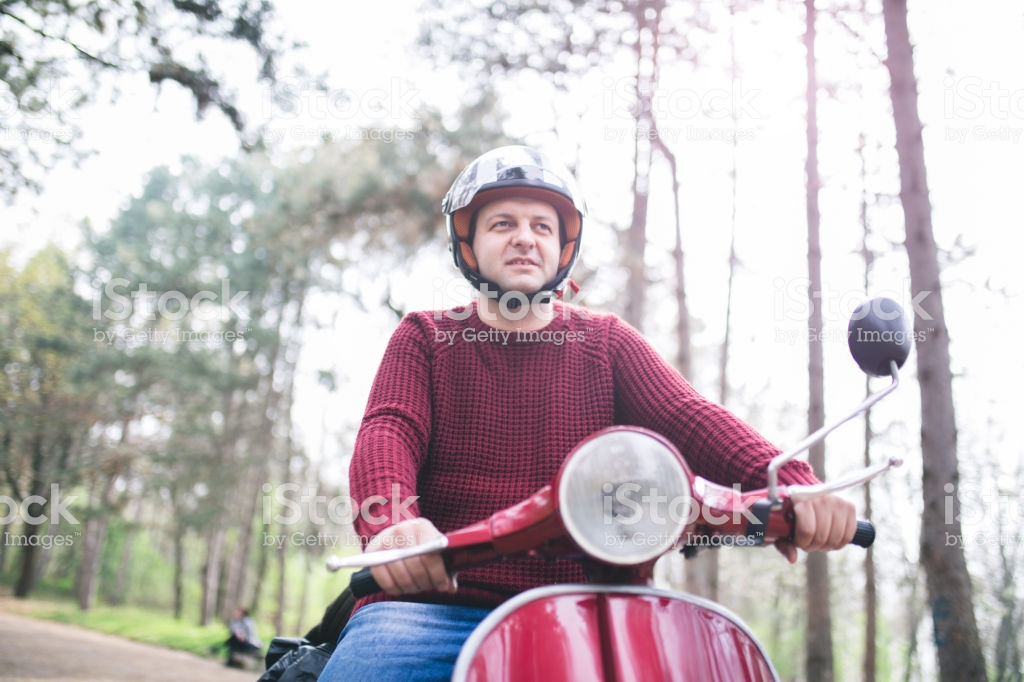helmet: (440, 155, 596, 295)
